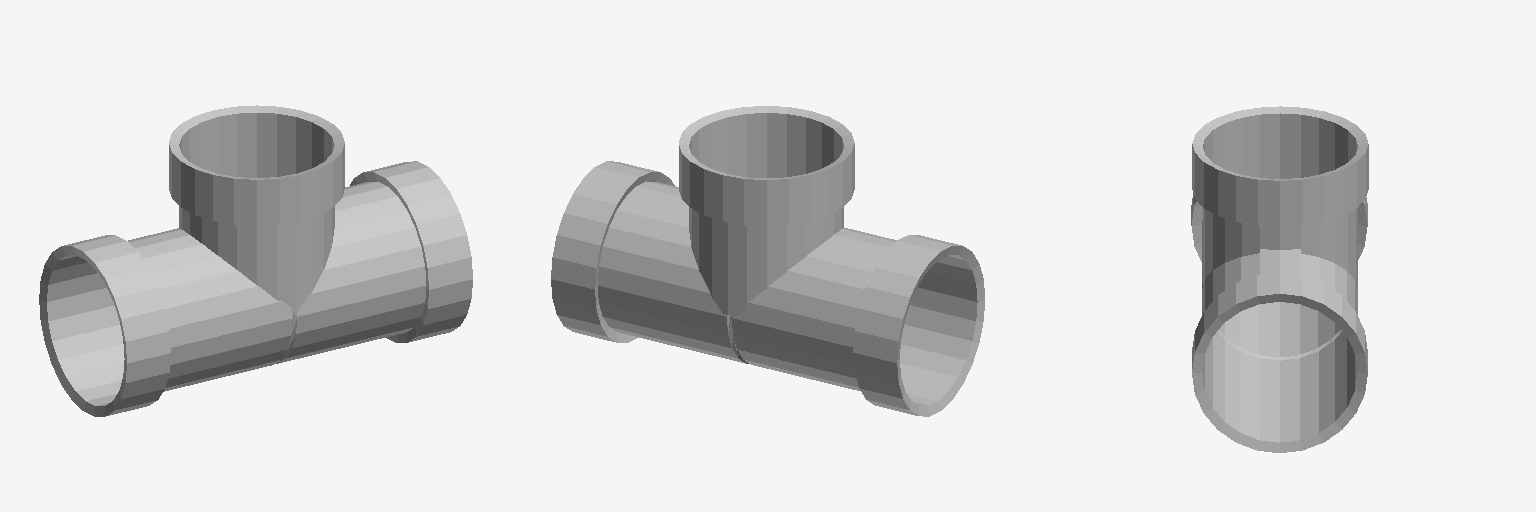
The model's file is PipesHorizontalbifgTEEE.obj.
The picture shows the model from 3 angles: view 1: azimuth 30°, elevation 25°; view 2: azimuth 150°, elevation 25°; view 3: azimuth 270°, elevation 25°; orthographic projection.
Parts seen in each view (by area): view 1: Cube_Cube.004; view 2: Cube_Cube.004; view 3: Cube_Cube.004.
Boxes of the visible parts, box(x1,y1,x2,y2) form: Cube_Cube.004: box(39, 105, 472, 416); Cube_Cube.004: box(551, 106, 984, 416); Cube_Cube.004: box(1191, 106, 1368, 452).
Size of the model in its own units: 3.93 by 2.45 by 1.74.